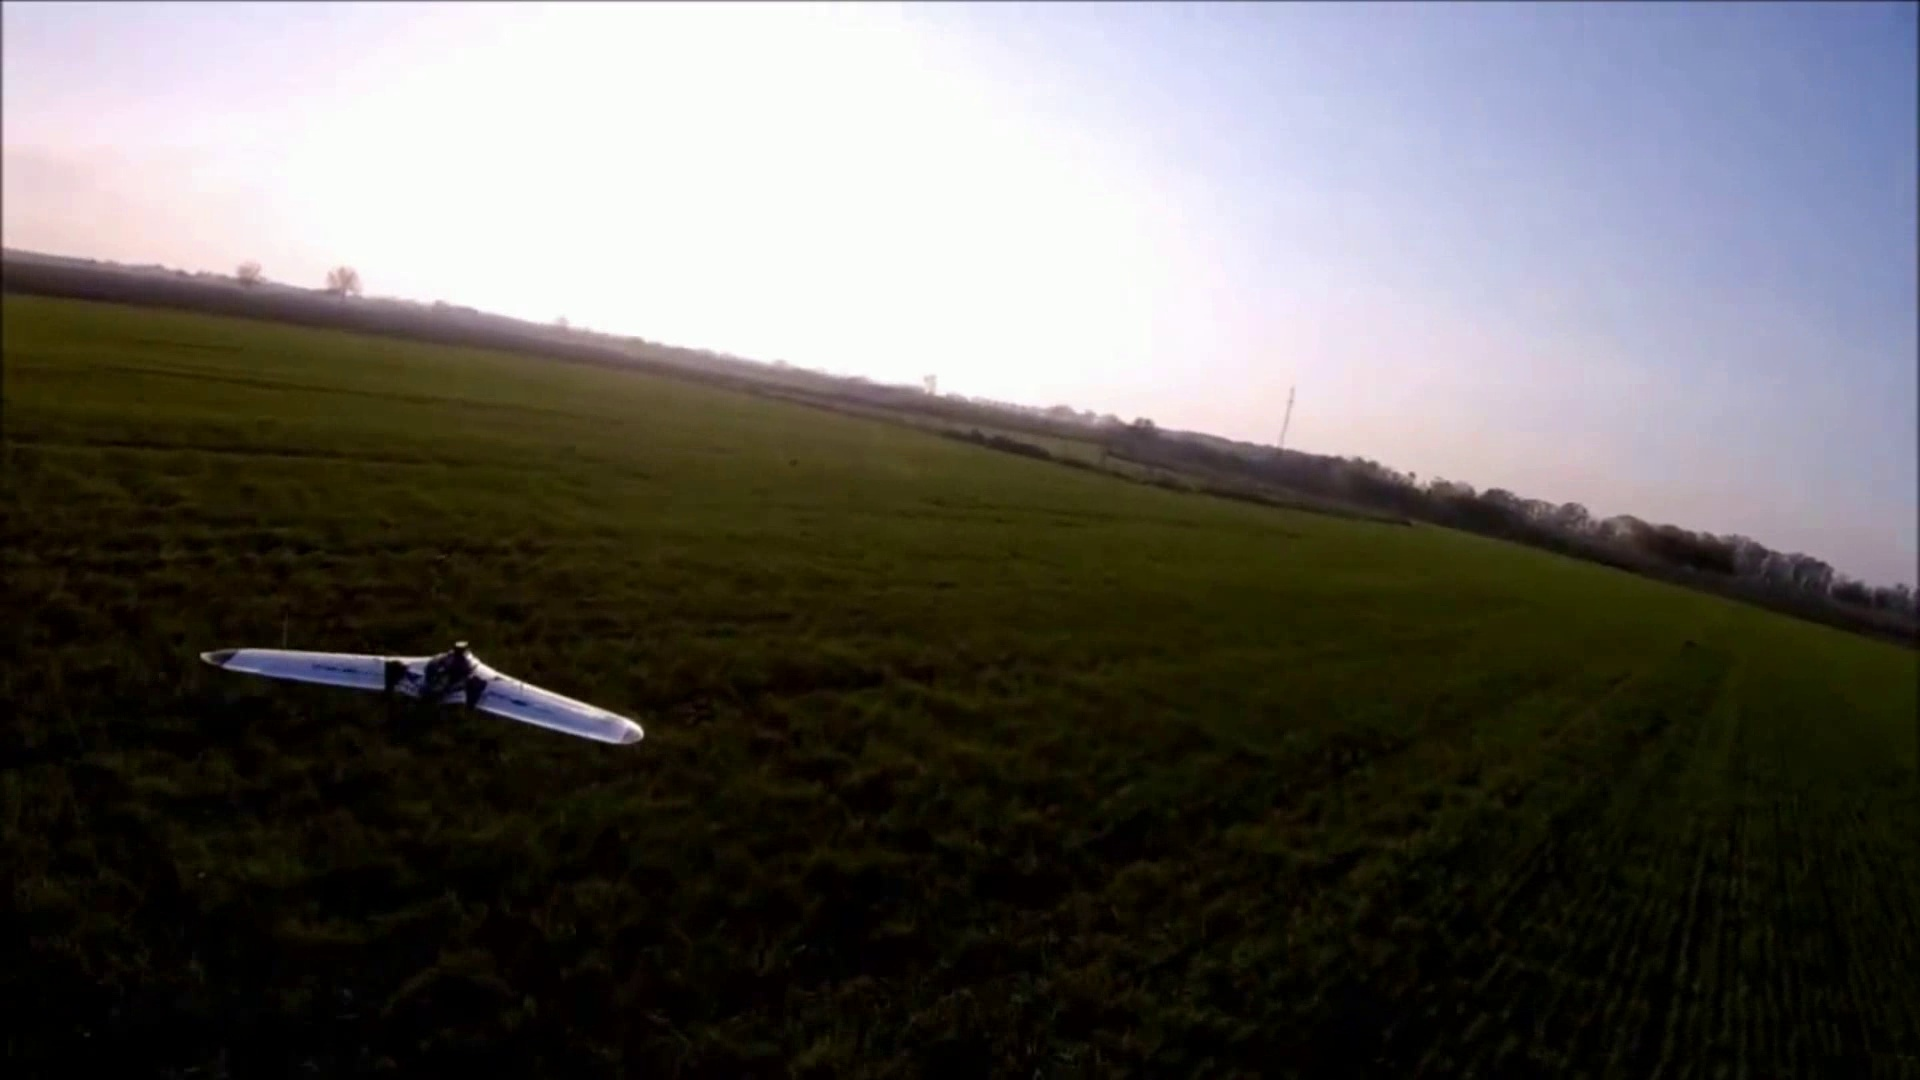airplane: (202, 642, 645, 749)
